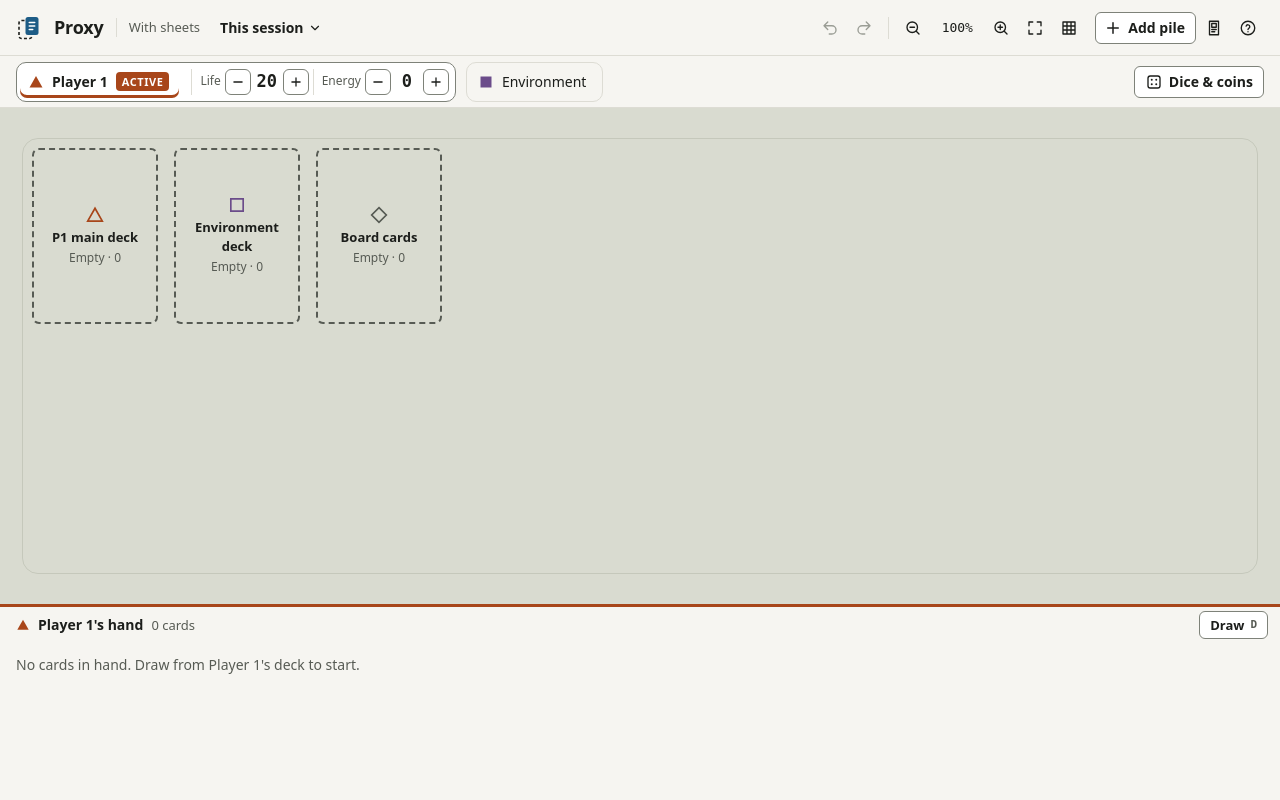
Test case: CD-12 Reload all › is disabled and reads Reloading… while it runs, and retries an empty pile with a format URL after a reload
Click the button "This session". click: point(271, 28)
box: x1=212 y1=12 x2=330 y2=44
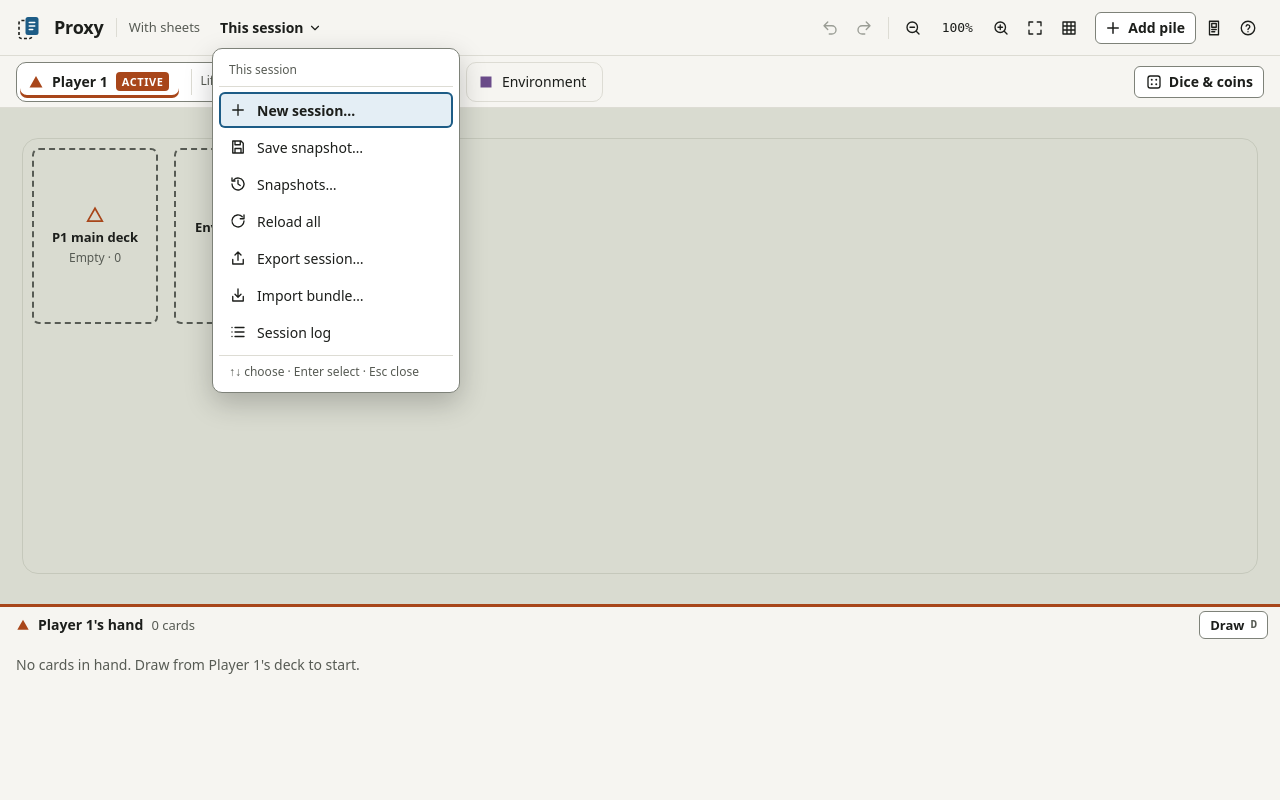
Click the menu item "Reload all". click: point(336, 221)
box: x1=219 y1=203 x2=453 y2=239
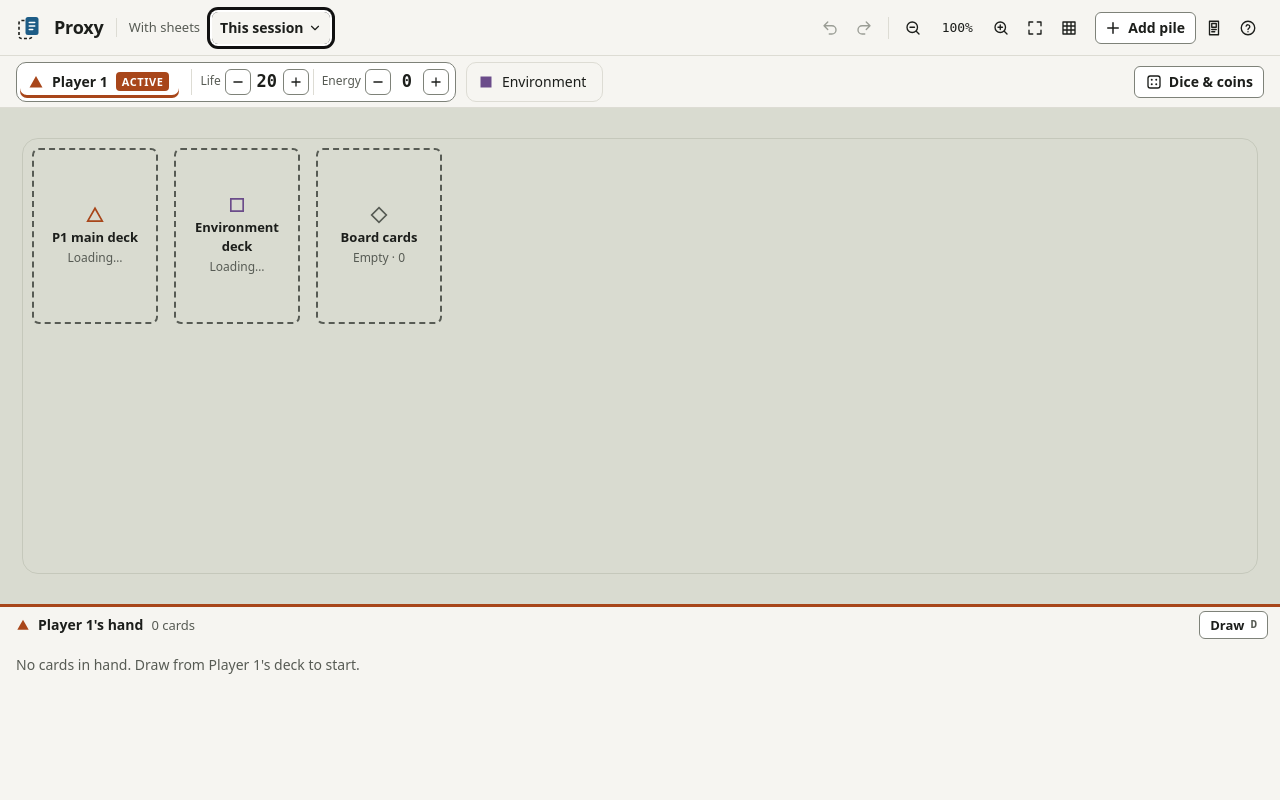
Click the button "This session". click: point(271, 28)
box: x1=212 y1=12 x2=330 y2=44
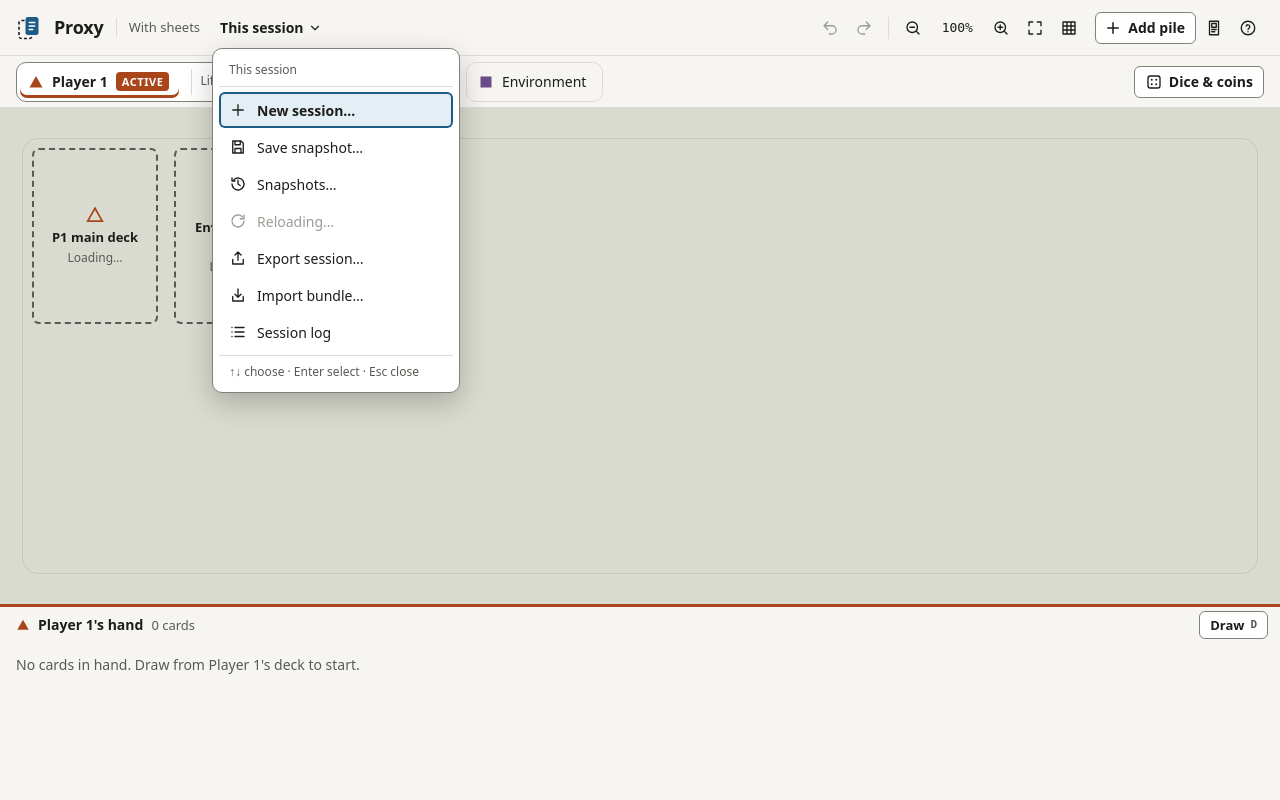
expect the menu item "Reloading…" is disabled: met, box x1=219 y1=203 x2=453 y2=239
Press Escape
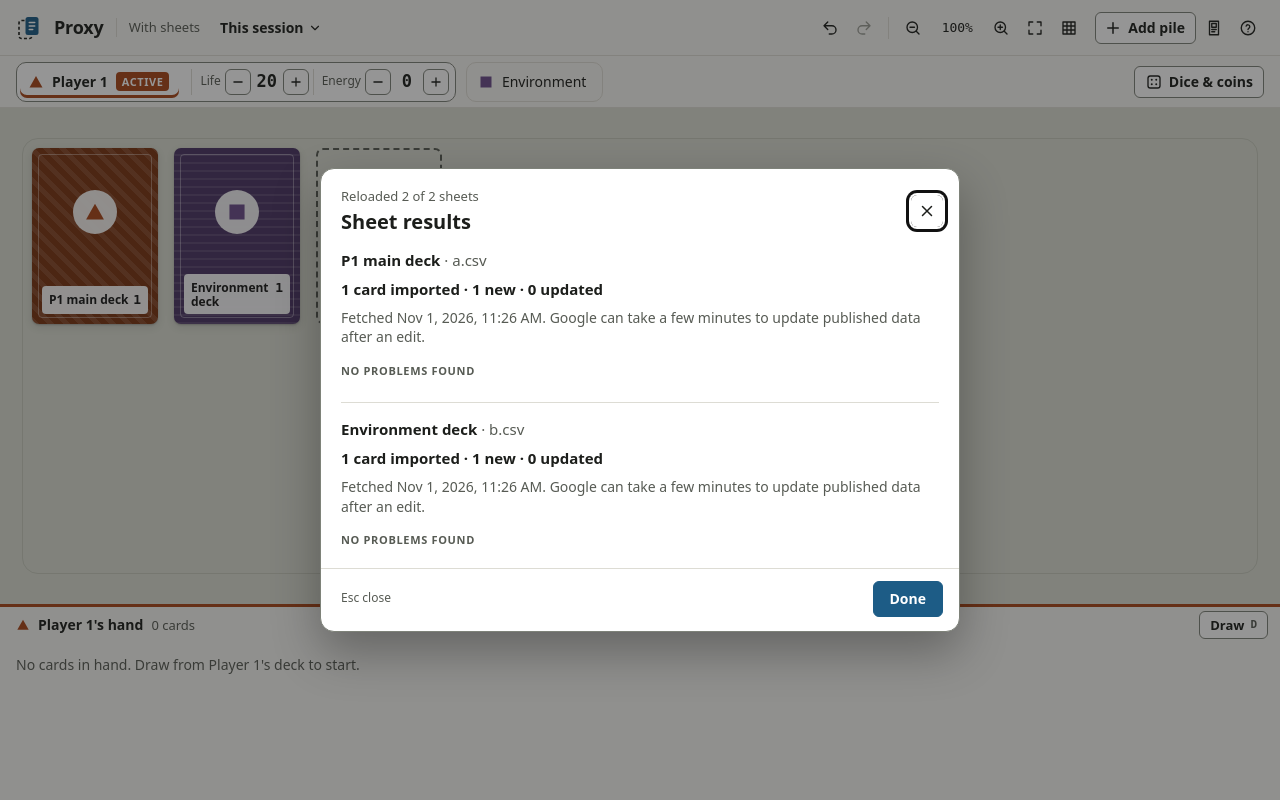
expect the dialog "Sheet results" shows "Reloaded 2 of 2 sheets": met, box x1=341 y1=187 x2=479 y2=205
